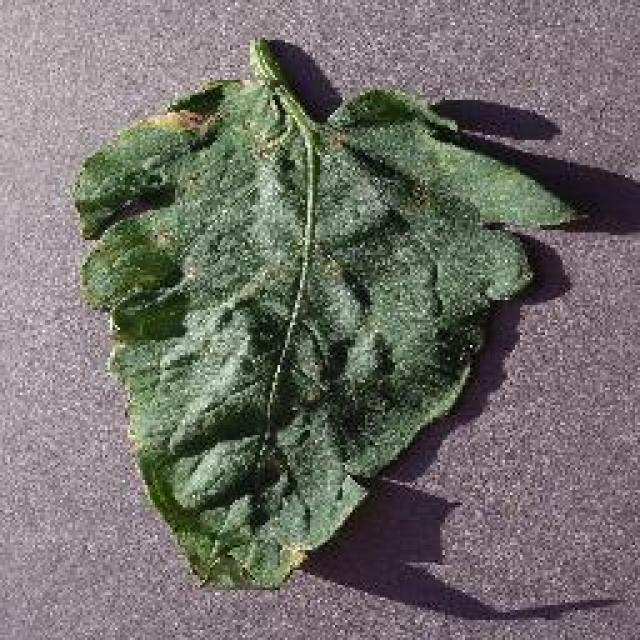Tomato___Target_Spot: (72, 40, 575, 585)
